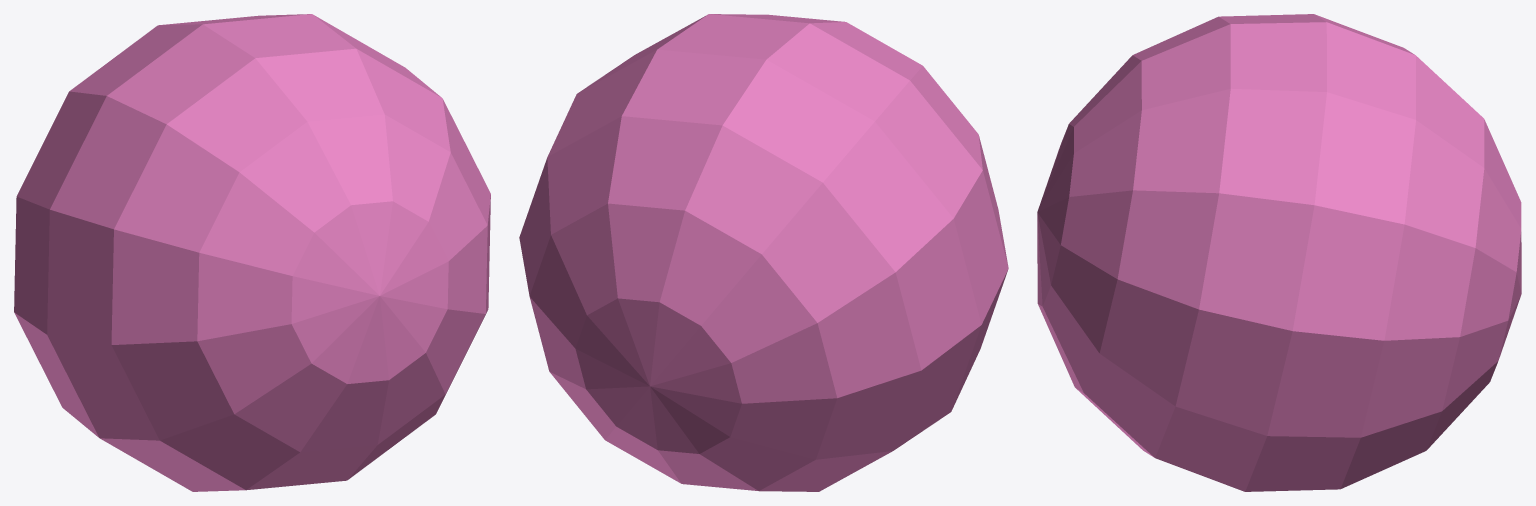
Rendered from pinkBullet.fbx.
3 views of the same model, side by side, from view 1: azimuth 30°, elevation 25°; view 2: azimuth 150°, elevation 25°; view 3: azimuth 270°, elevation 25° (orthographic).
Visible parts, largest first — view 1: polySurface757; view 2: polySurface757; view 3: polySurface757.
Boxes of the visible parts, bbox=[...] form: polySurface757: bbox=[14, 14, 490, 491]; polySurface757: bbox=[519, 14, 1008, 491]; polySurface757: bbox=[1037, 14, 1521, 491].
Size of the model in its own units: 0.1565 by 0.1538 by 0.1546.
